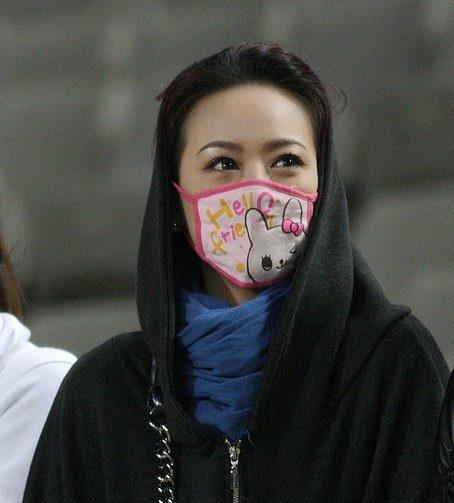OK: (181, 134, 324, 277)
